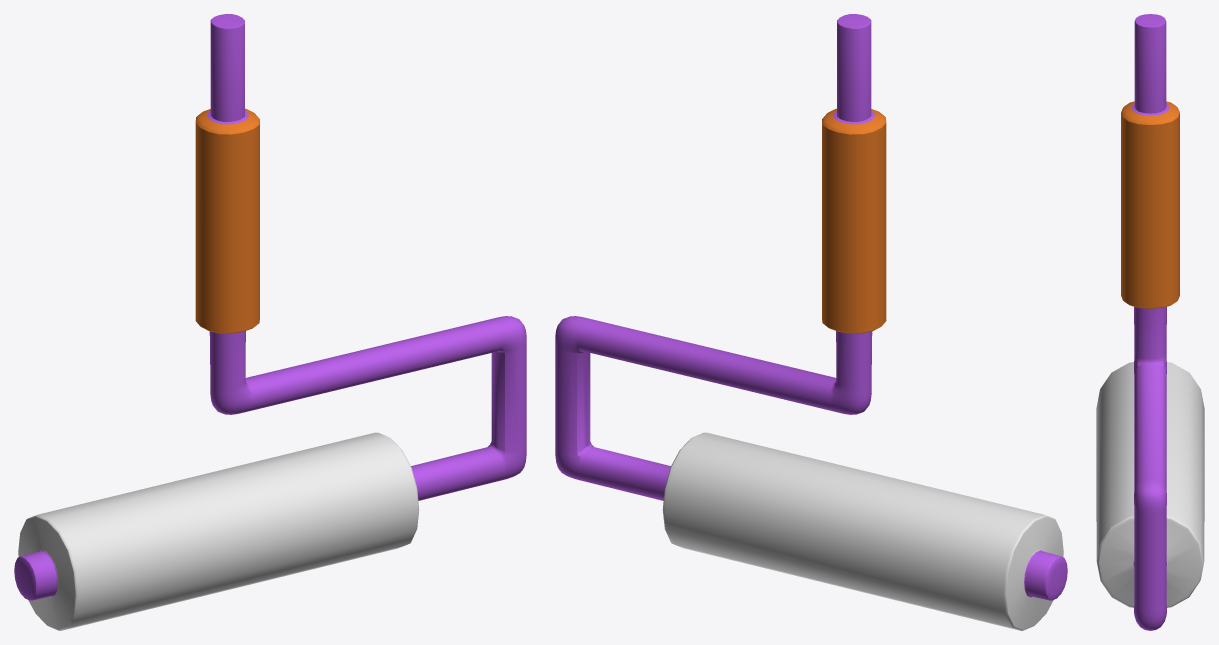
Rendered from Rodillo_Anastasia.fbx.
The picture shows the model from 3 angles, left to right: view 1: azimuth 30°, elevation 25°; view 2: azimuth 150°, elevation 25°; view 3: azimuth 270°, elevation 25°; orthographic projection. The views are drawn at different scales.
Parts seen in each view (by area): view 1: Cube; view 2: Cube; view 3: Cube.
Boxes of the visible parts, bbox=[...] form: Cube: bbox=[14, 14, 526, 630]; Cube: bbox=[555, 14, 1067, 630]; Cube: bbox=[1096, 14, 1204, 630].
Bounding box in the file's own units: 718 × 770 × 146.
